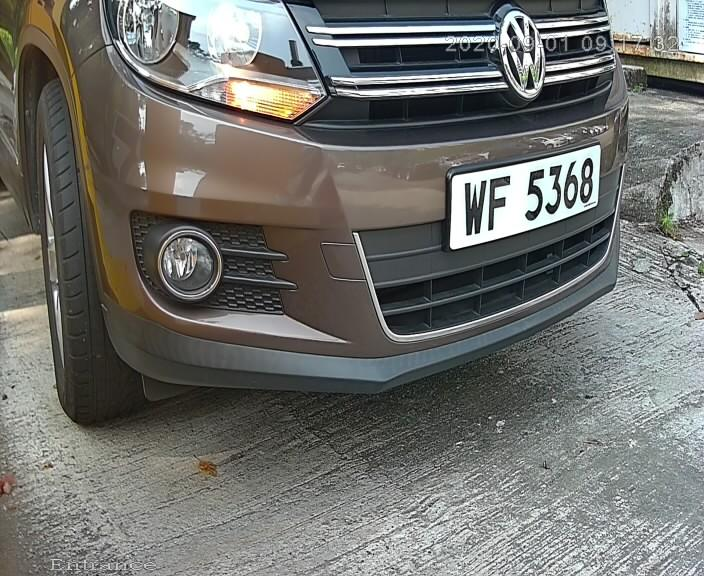Car: (7, 8, 695, 445)
License Plate: (437, 137, 604, 260)
